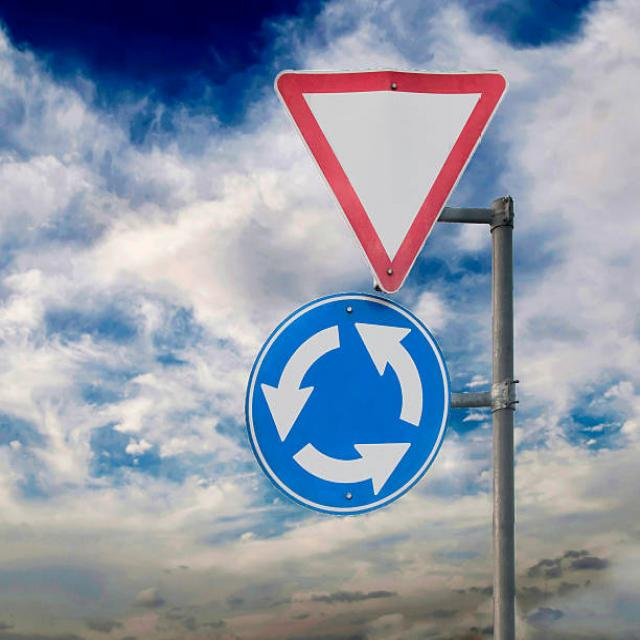round_about: (242, 294, 451, 518)
